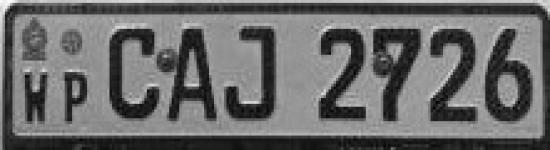2: (312, 19, 371, 129), (426, 23, 483, 129)
6: (480, 20, 538, 129)
7: (369, 19, 425, 128)
A: (163, 17, 222, 127)
C: (104, 21, 165, 128)
J: (220, 21, 281, 126)
P: (58, 65, 94, 130)
W: (18, 65, 52, 128)
